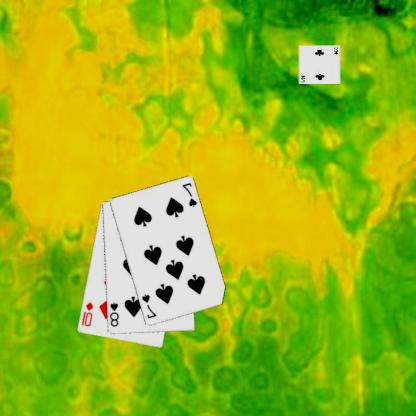10D: (80, 300, 96, 328)
7S: (140, 292, 160, 320), (181, 180, 200, 209)
8S: (108, 300, 122, 328)
